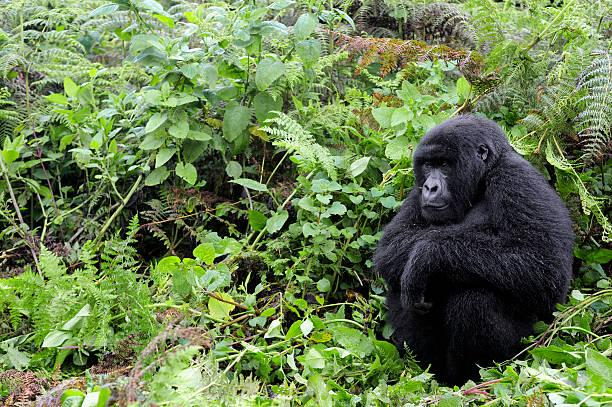goriile_montagne: (377, 111, 579, 377)
